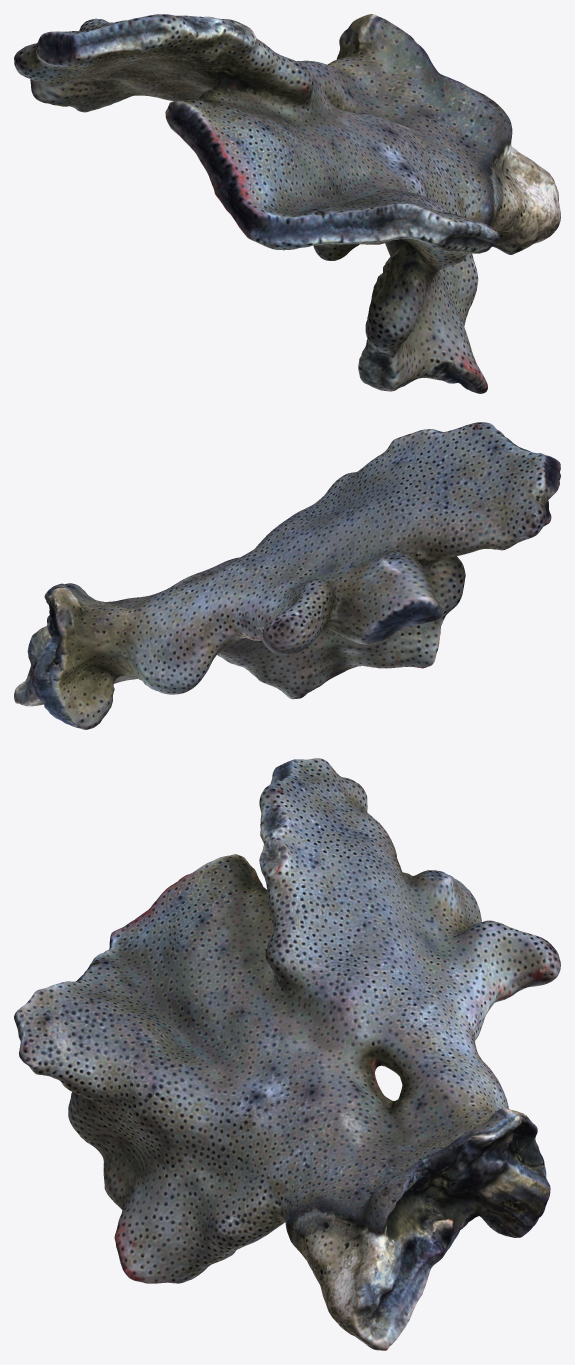
The model's file is MZUR3D-017.glb.
The picture shows the model from 3 angles, top to bottom: view 1: azimuth 30°, elevation 25°; view 2: azimuth 150°, elevation 25°; view 3: azimuth 270°, elevation 25°; orthographic projection. The views are drawn at different scales.
Parts seen in each view (by area): view 1: MZUR3D-017; view 2: MZUR3D-017; view 3: MZUR3D-017.
Part boxes in pixels (<box>): MZUR3D-017: <box>14,14,560,393</box>; MZUR3D-017: <box>14,422,560,729</box>; MZUR3D-017: <box>14,758,560,1350</box>.
Size of the model in its own units: 0.7672 by 0.5182 by 0.679.
1 material, 1 textured.
